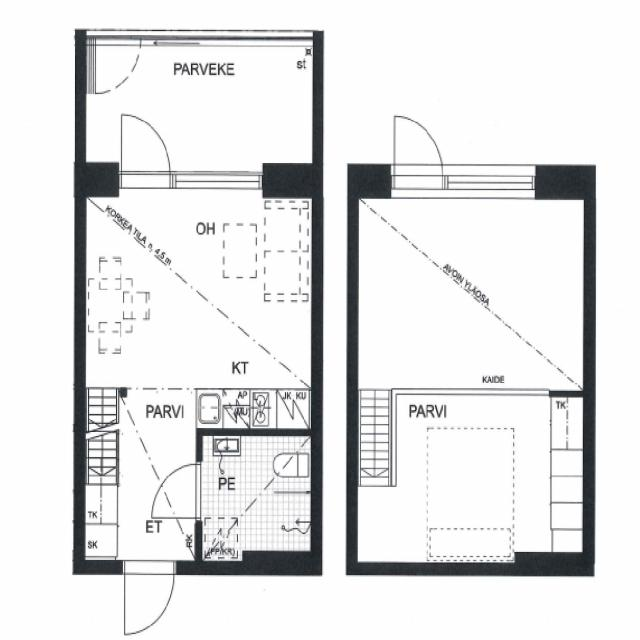door: (122, 110, 171, 188), (124, 562, 174, 636), (151, 465, 202, 518)
